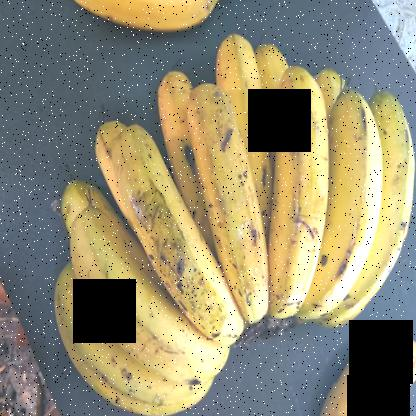ripe: (58, 197, 236, 388), (111, 125, 246, 357), (186, 79, 284, 353), (268, 60, 331, 332), (319, 85, 378, 320), (308, 333, 415, 415)
